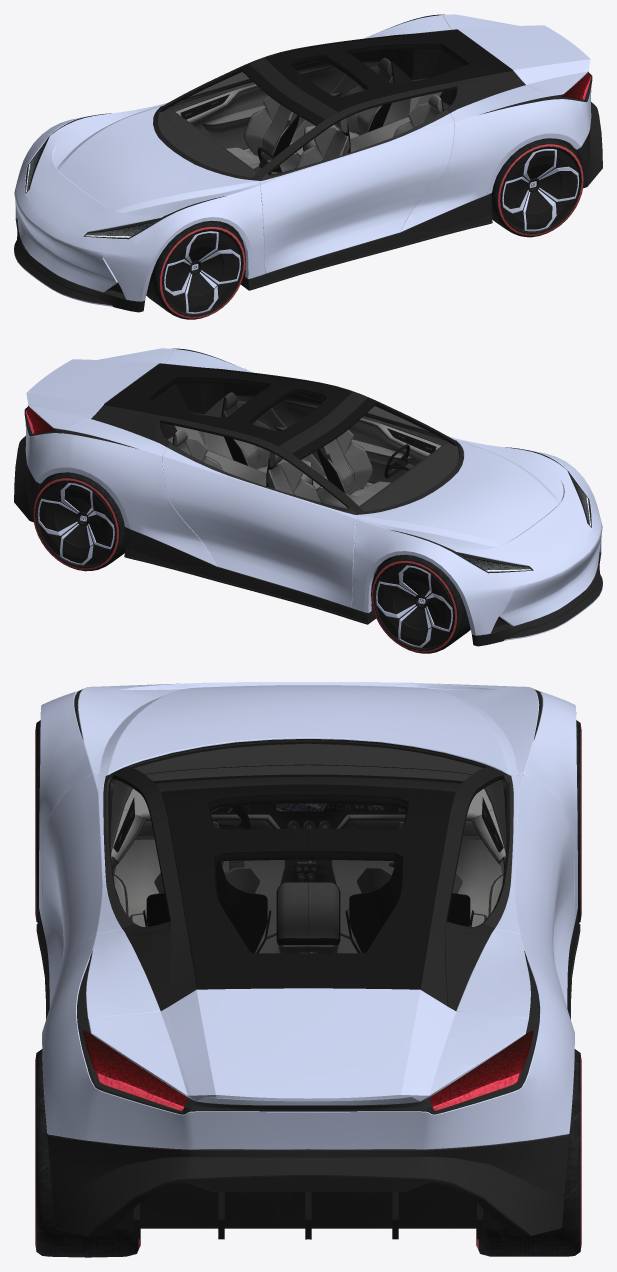
Rendered from Qt_Car_Baked_low_v2.glb.
3 renders of one model, top to bottom at view 1: azimuth 30°, elevation 25°; view 2: azimuth 150°, elevation 25°; view 3: azimuth 270°, elevation 25°, orthographic. The views are drawn at different scales.
Parts seen in each view (by area): view 1: Mainbody_b_Low, Roof_b.001, Door_b_L_Low, Tire_FrontL_low, BackL_Tire_b_low, DoorWindow_b_L_low, Door_b_R_Low, InsideFloor_low, Seat_front_low, Dash_low, Seat_rear_low, HeadLights_low; view 2: Mainbody_b_Low, Roof_b.001, Door_b_R_Low, FrontR_Tire_b_Low, BackR_Tire_b_Low, DoorWindow_b_R_low, InsideFloor_low, Door_b_L_Low, Seat_front_low, Dash_low, Seat_rear_low, HeadLights_low; view 3: Mainbody_b_Low, Roof_b.001, Door_b_L_Low, Door_b_R_Low, InsideFloor_low, Dash_low, Seat_front_low, HeadLights_low, DoorWindow_b_L_low, DoorWindow_b_R_low, BackL_Tire_b_low, BackR_Tire_b_Low (+3 smaller).
Part boxes in pixels (x1,y1,x2,y2): Mainbody_b_Low: (14, 14, 602, 312); Roof_b.001: (153, 29, 525, 180); Door_b_L_Low: (259, 109, 454, 273); Tire_FrontL_low: (146, 220, 245, 319); BackL_Tire_b_low: (492, 138, 583, 237); DoorWindow_b_L_low: (267, 91, 445, 176); Door_b_R_Low: (153, 54, 355, 149); InsideFloor_low: (244, 49, 462, 173); Seat_front_low: (226, 96, 350, 168); Dash_low: (158, 109, 261, 177); Seat_rear_low: (303, 58, 444, 150); HeadLights_low: (26, 73, 590, 237); Mainbody_b_Low: (14, 348, 602, 646); Roof_b.001: (91, 363, 463, 514); Door_b_R_Low: (162, 443, 357, 607); FrontR_Tire_b_Low: (371, 554, 470, 653); BackR_Tire_b_Low: (33, 472, 124, 571); DoorWindow_b_R_low: (171, 425, 348, 510); InsideFloor_low: (154, 383, 372, 508); Door_b_L_Low: (261, 388, 463, 483); Seat_front_low: (266, 430, 390, 502); Dash_low: (359, 443, 458, 511); Seat_rear_low: (172, 392, 313, 484); HeadLights_low: (26, 407, 590, 571); Mainbody_b_Low: (36, 682, 580, 1239); Roof_b.001: (110, 740, 506, 1010); Door_b_L_Low: (41, 774, 145, 1007); Door_b_R_Low: (471, 774, 575, 1007); InsideFloor_low: (114, 839, 502, 1010); Dash_low: (115, 743, 501, 869); Seat_front_low: (143, 822, 473, 952); HeadLights_low: (83, 1030, 533, 1110); DoorWindow_b_L_low: (108, 775, 165, 923); DoorWindow_b_R_low: (451, 775, 508, 923); BackL_Tire_b_low: (35, 1049, 140, 1257); BackR_Tire_b_Low: (476, 1049, 581, 1256).
Size of the model in its own units: 3.5 by 0.9344 by 1.55.
Materials: 17 (11 with a texture image).
